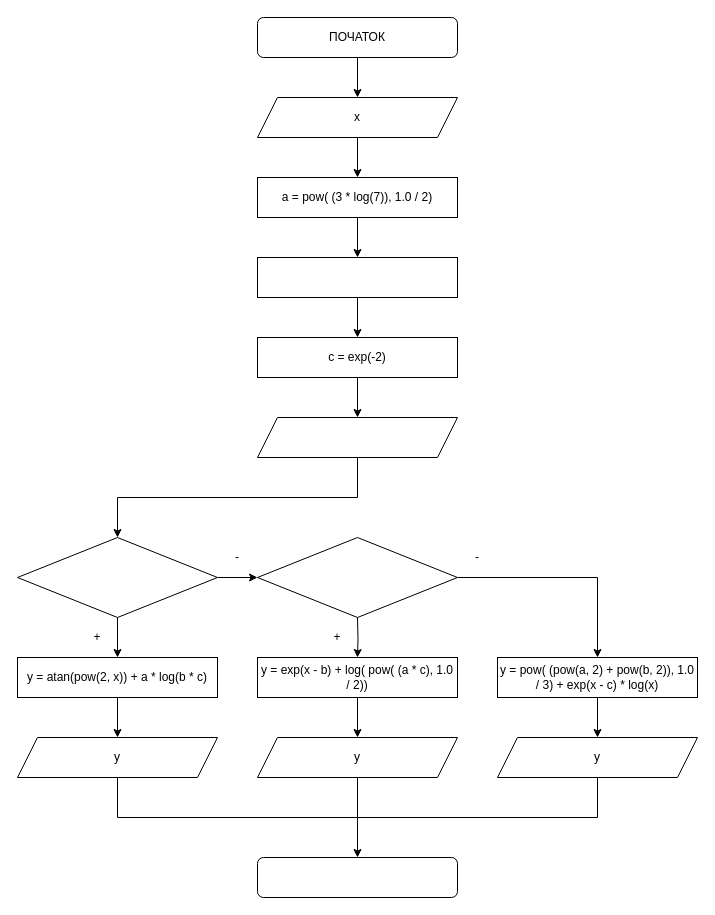
This 715x915 diagram has some shape labels left out. Here are the shapes that lost their labels. From the top down, the box of each, then its label:
(256, 256, 458, 298): b = tan(pi / 3)
(256, 416, 458, 458): a, b, c
(16, 536, 218, 618): x > a
(256, 536, 458, 618): x == a
(256, 856, 458, 898): КІНЕЦЬ
